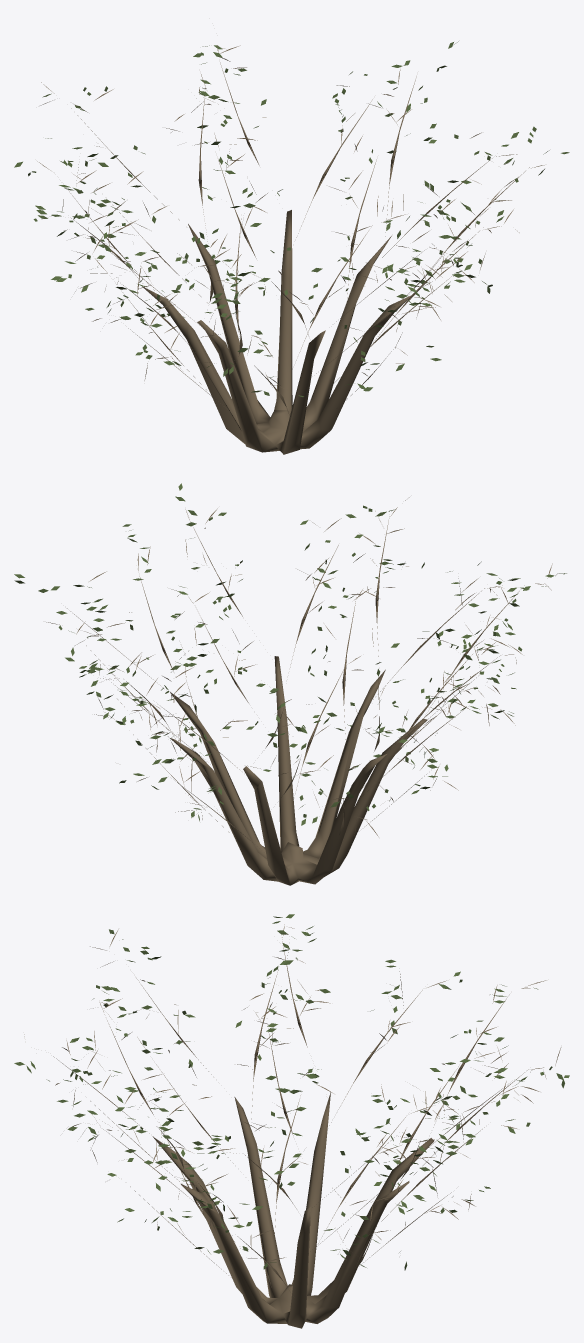
The model's file is Lentisque_1_Niveau2.fbx.
3 renders of one model, top to bottom at view 1: azimuth 30°, elevation 25°; view 2: azimuth 150°, elevation 25°; view 3: azimuth 270°, elevation 25°, orthographic. The views are drawn at different scales.
Visible parts, largest first — view 1: Lentisque_1_Niveau2; view 2: Lentisque_1_Niveau2; view 3: Lentisque_1_Niveau2.
Boxes of the visible parts, bbox=[...] form: Lentisque_1_Niveau2: bbox=[14, 41, 569, 454]; Lentisque_1_Niveau2: bbox=[14, 483, 566, 885]; Lentisque_1_Niveau2: bbox=[14, 914, 569, 1328].
Size of the model in its own units: 246 by 154 by 253.
